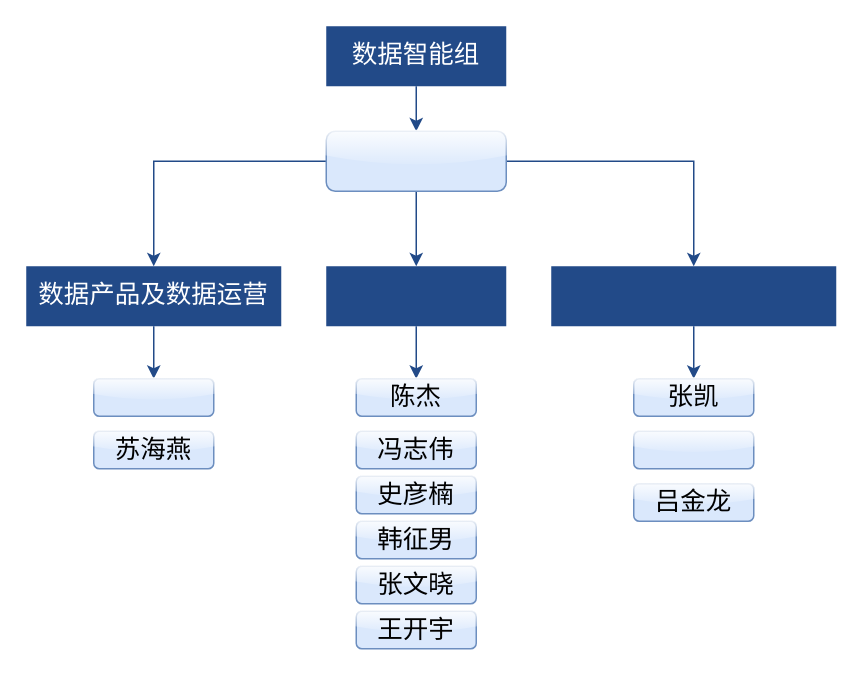
Some shapes in this 861 by 675 pixel diagram are drawn without their labels. Here are the shapes that lost their labels. From the top down, the centre of each, then its label:
point 415,160: 方政
point 416,296: 数据仓库团队
point 693,296: BI平台及数据中台团队
point 153,396: 孙若男
point 693,449: 张二鹏
